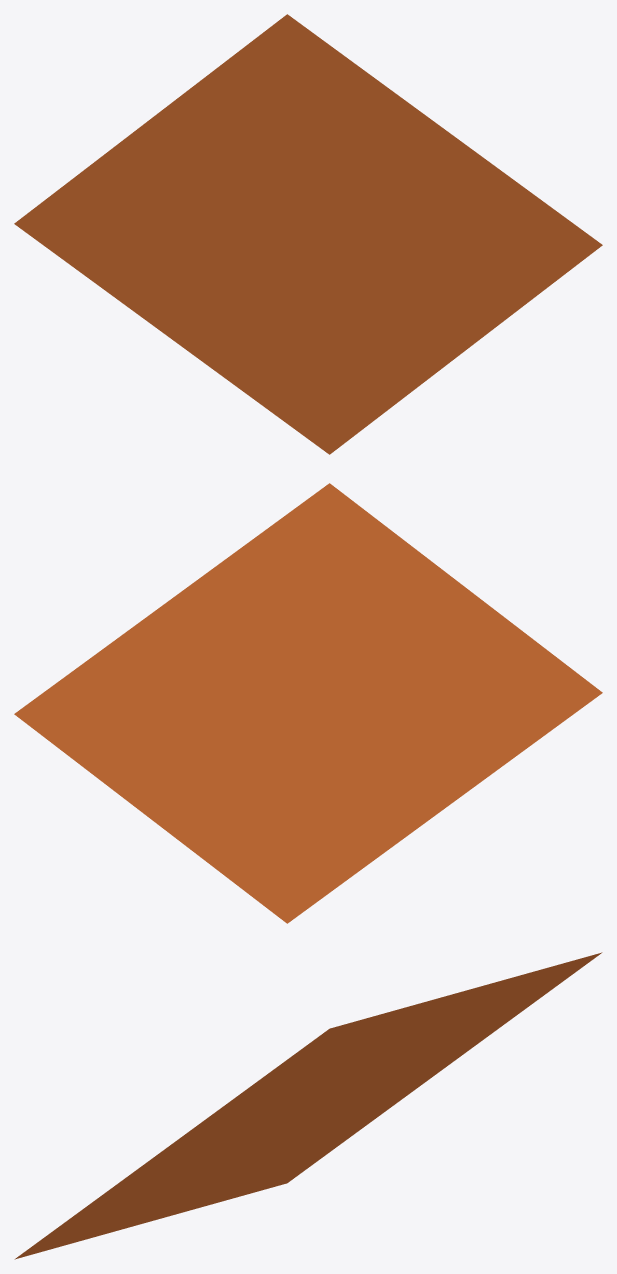
Rendered from border.fbx.
3 renders of one model, top to bottom at view 1: azimuth 30°, elevation 25°; view 2: azimuth 150°, elevation 25°; view 3: azimuth 330°, elevation 25°, orthographic.
Visible parts, largest first — view 1: border; view 2: border; view 3: border.
Part boxes in pixels (bbox=[...]): border: bbox=[14, 14, 602, 454]; border: bbox=[14, 483, 602, 923]; border: bbox=[14, 952, 602, 1259].
Size of the model in its own units: 100 by 200 by 50.
